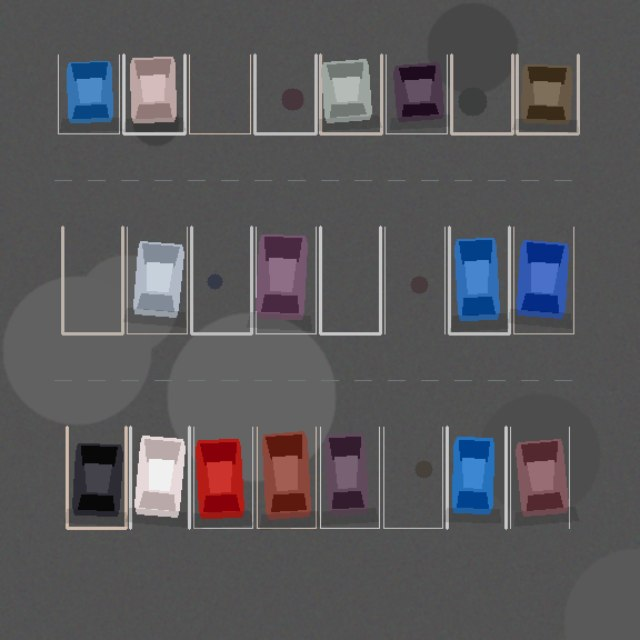space-empty: (62, 227, 122, 333), (191, 227, 251, 333), (320, 227, 380, 333), (384, 227, 444, 333), (383, 427, 442, 528), (254, 54, 316, 133), (189, 54, 250, 133), (451, 54, 512, 133)
space-occupied: (127, 227, 187, 333), (256, 227, 316, 333), (449, 227, 509, 333), (513, 227, 573, 333), (67, 427, 126, 528), (130, 427, 189, 528), (193, 427, 252, 528), (257, 427, 316, 528), (320, 427, 379, 528), (447, 427, 506, 528), (510, 427, 569, 528), (58, 54, 119, 133), (123, 54, 184, 133), (320, 54, 381, 133), (386, 54, 447, 133), (517, 54, 578, 133)
